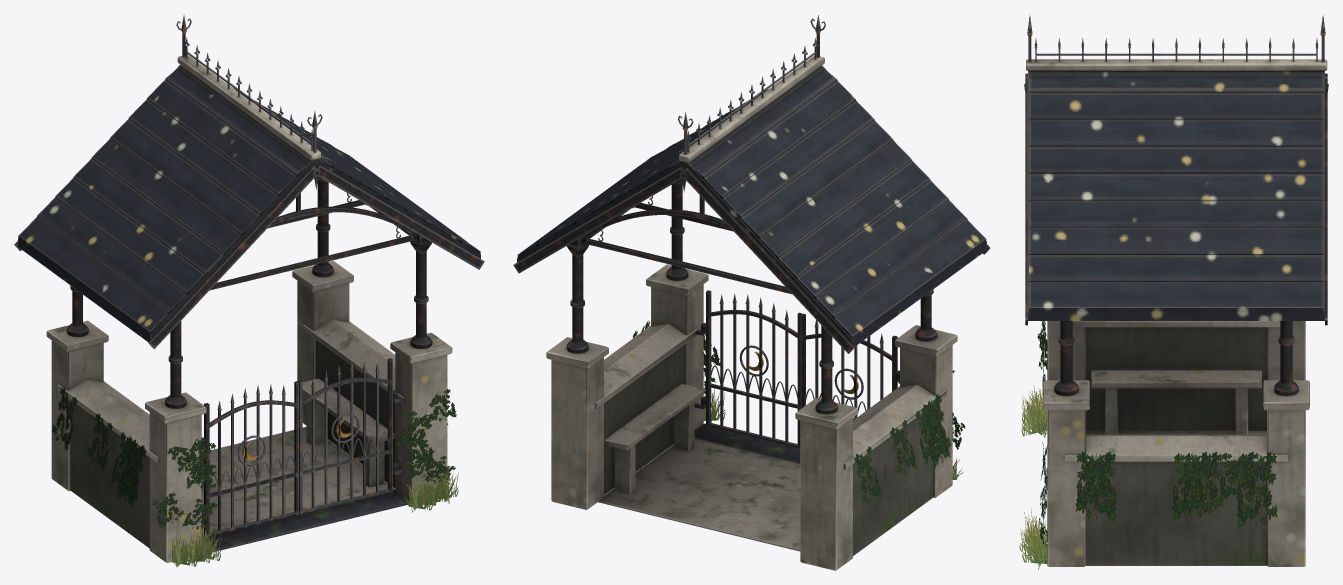
File: GateLych.fbx
The picture shows the model from 3 angles, left to right: view 1: azimuth 30°, elevation 25°; view 2: azimuth 150°, elevation 25°; view 3: azimuth 270°, elevation 25°; orthographic projection. The views are drawn at different scales.
Visible parts, largest first — view 1: GateLych_Main, GateLych_Leaves, GateLych_Leaf1, GateLych_Leaf0; view 2: GateLych_Main, GateLych_Leaf1, GateLych_Leaves, GateLych_Leaf0; view 3: GateLych_Main, GateLych_Leaves.
Boxes of the visible parts, bbox=[...] form: GateLych_Main: bbox=[14, 14, 484, 562]; GateLych_Leaves: bbox=[51, 387, 458, 567]; GateLych_Leaf1: bbox=[298, 358, 397, 514]; GateLych_Leaf0: bbox=[201, 381, 298, 537]; GateLych_Main: bbox=[513, 15, 990, 570]; GateLych_Leaf1: bbox=[701, 290, 801, 448]; GateLych_Leaves: bbox=[633, 321, 965, 505]; GateLych_Leaf0: bbox=[801, 313, 899, 420]; GateLych_Main: bbox=[1024, 14, 1328, 566]; GateLych_Leaves: bbox=[1019, 321, 1277, 569].
Bounding box in the file's own units: 1067 × 1292 × 760.
